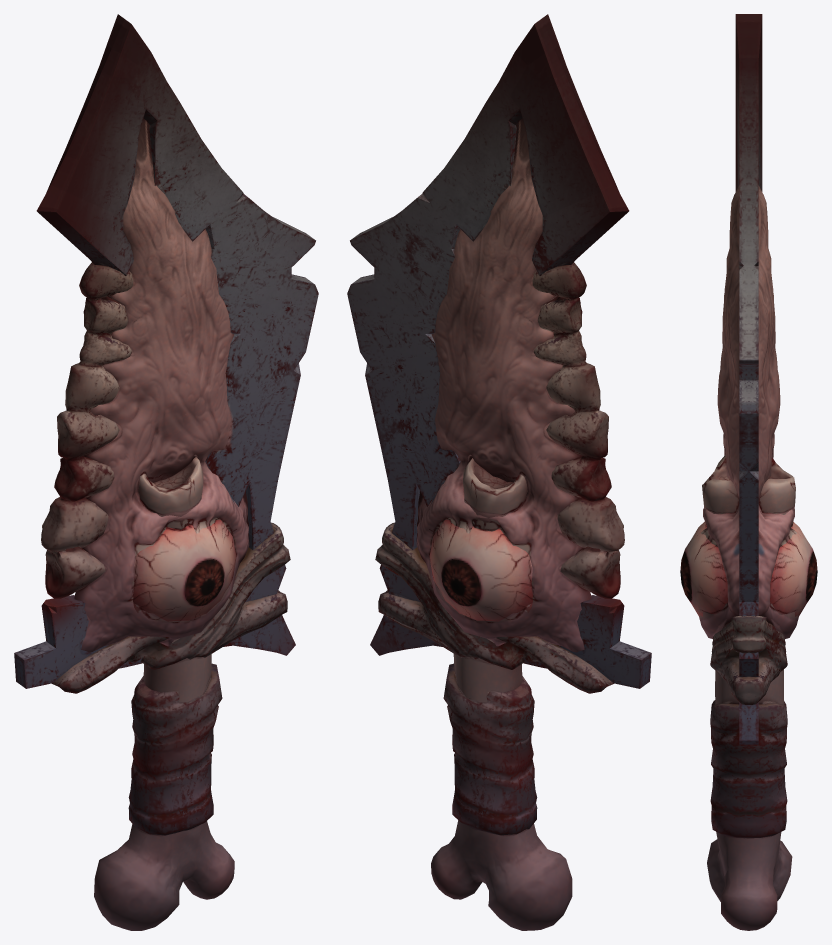
The model's file is AbramKnife.fbx.
The picture shows the model from 3 angles, left to right: view 1: azimuth 30°, elevation 25°; view 2: azimuth 150°, elevation 25°; view 3: azimuth 270°, elevation 25°; orthographic projection. The views are drawn at different scales.
Visible parts, largest first — view 1: Blade_Low; view 2: Blade_Low; view 3: Blade_Low.
Boxes of the visible parts, box(x1,y1,x2,y2) form: Blade_Low: box(14, 14, 318, 930); Blade_Low: box(347, 14, 651, 930); Blade_Low: box(680, 14, 817, 930).
Size of the model in its own units: 44.68 by 132 by 18.45.
